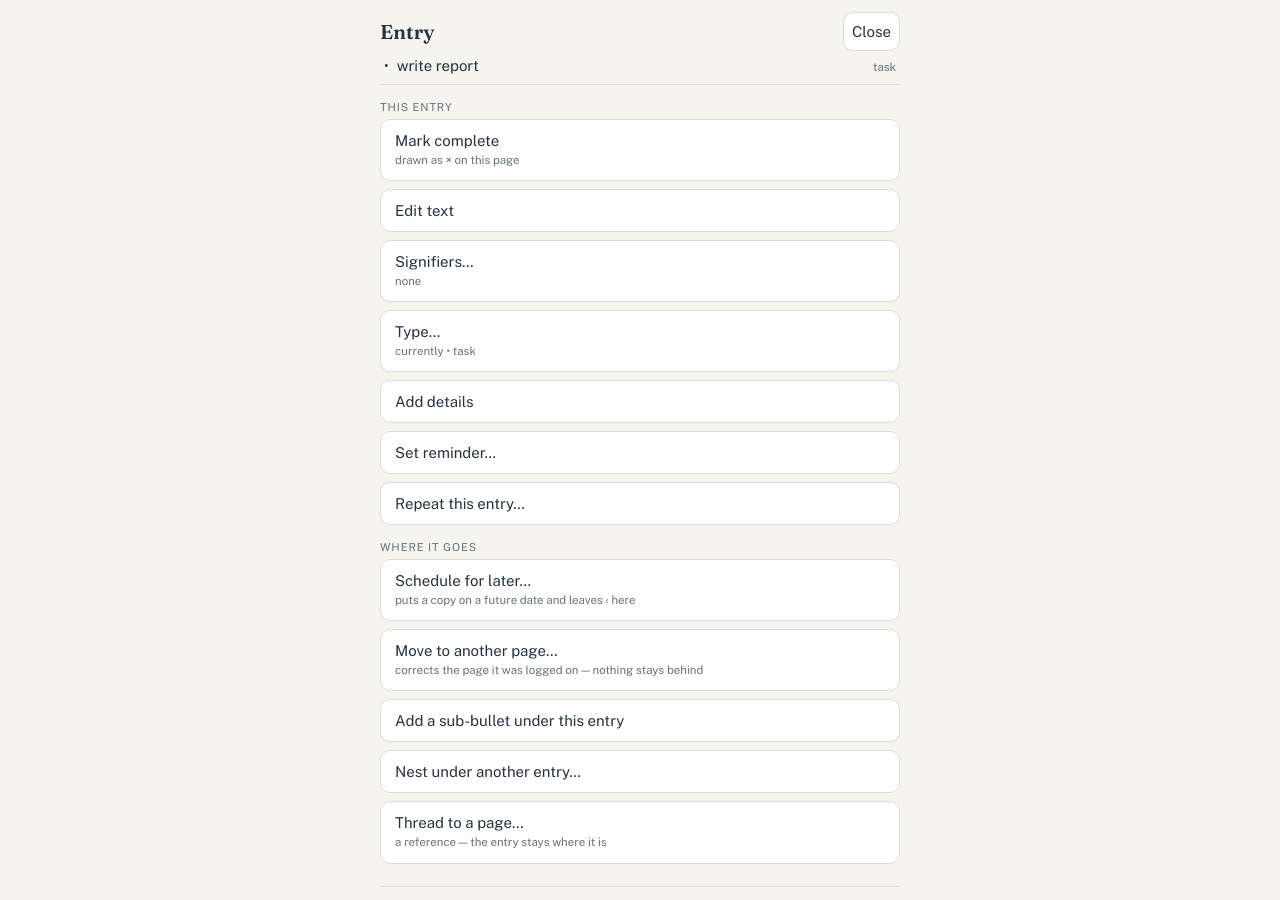
Test case: nesting › the nest action opens the picker rather than nesting blindly
Click the button "Nest under another entry…": (488, 772) [380,750,900,794]
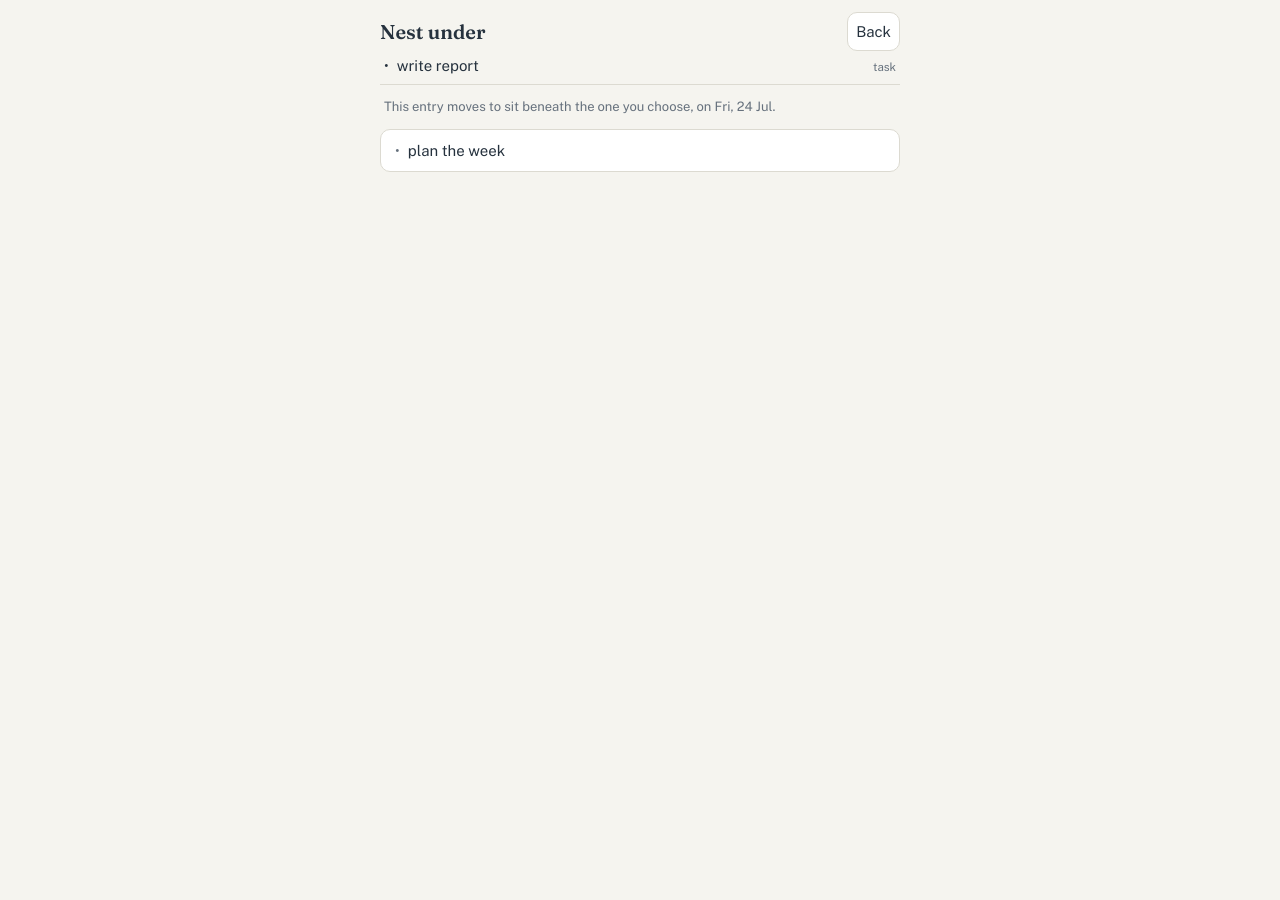
Check: the button with aria-label "Nest under plan the week" is shown, box [380,129,900,172]
